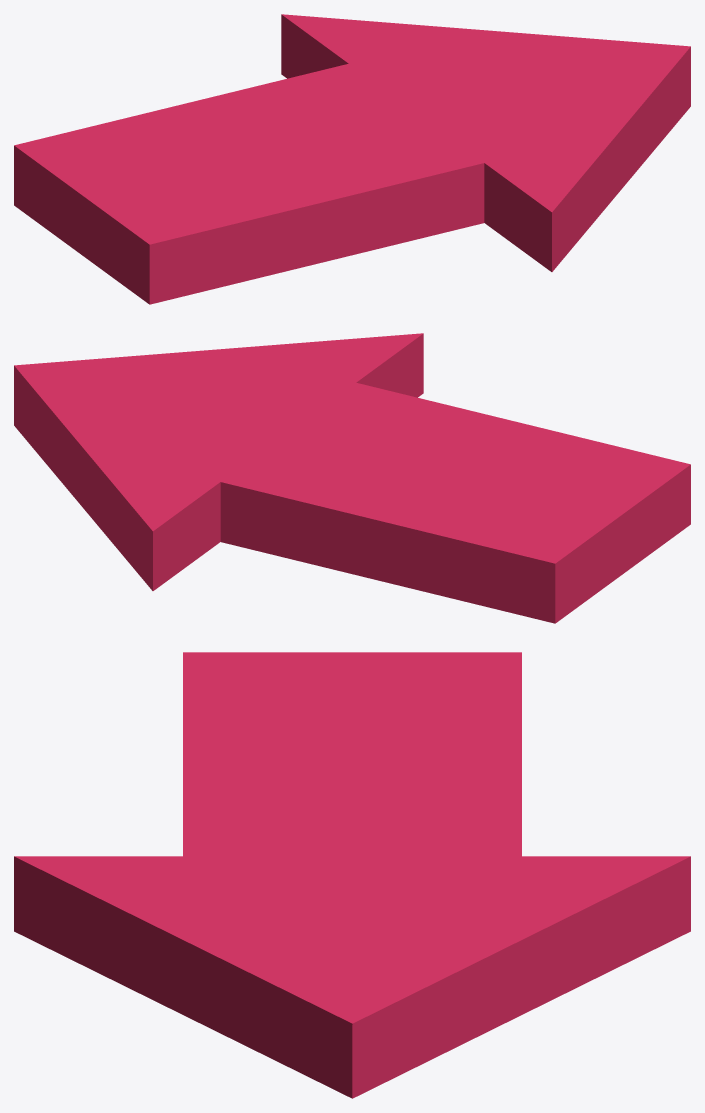
File: Arrow.fbx
The picture shows the model from 3 angles, top to bottom: view 1: azimuth 30°, elevation 25°; view 2: azimuth 150°, elevation 25°; view 3: azimuth 270°, elevation 25°; orthographic projection. The views are drawn at different scales.
Visible parts, largest first — view 1: Vert; view 2: Vert; view 3: Vert.
Part boxes in pixels (left/top/right/bottom): Vert: left=14, top=14, right=690, bottom=304; Vert: left=14, top=333, right=690, bottom=623; Vert: left=14, top=652, right=690, bottom=1098.
Bounding box in the file's own units: 134 × 12.65 × 103.
